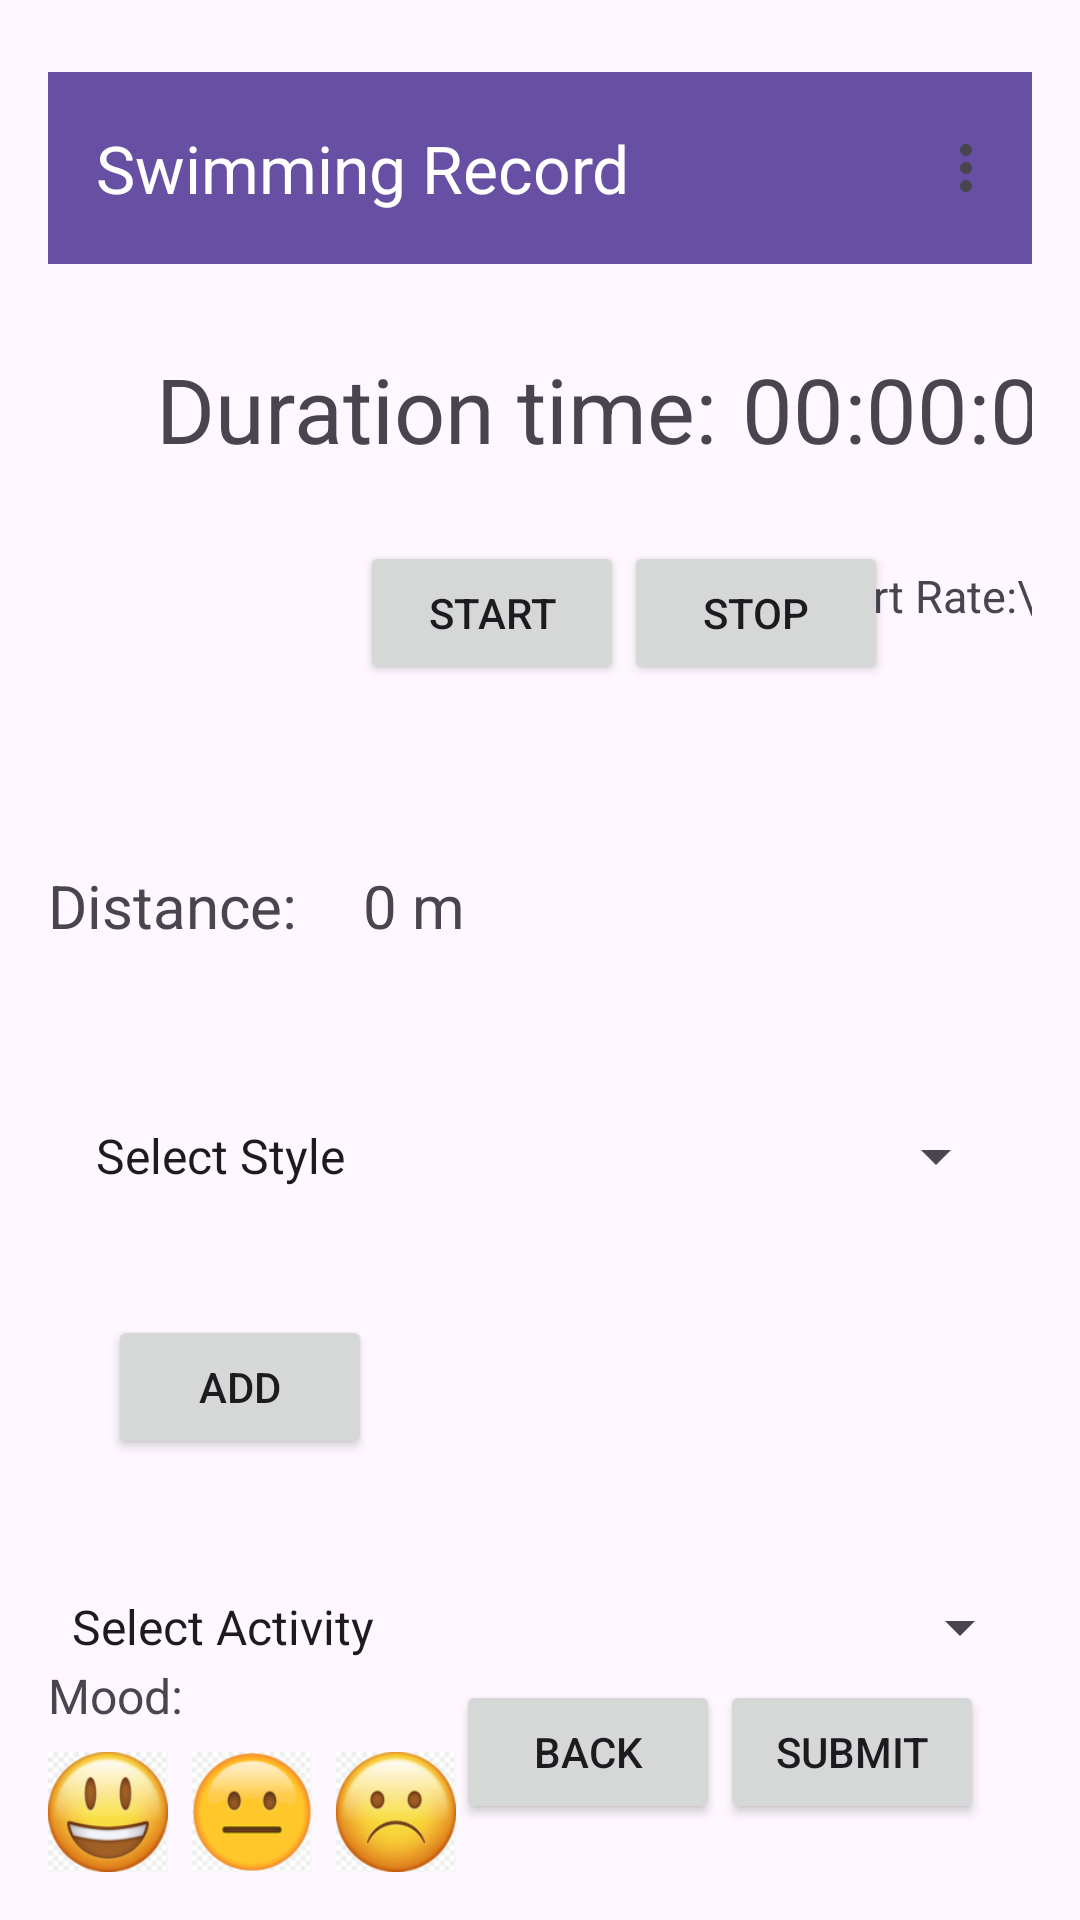

Where icons sit on this 1080px×1920px app screen, as box=[x1, y1, x2, y2]:
bad: box=[336, 1752, 456, 1872]
happy: box=[48, 1752, 168, 1872]
neutral: box=[193, 1753, 311, 1871]
